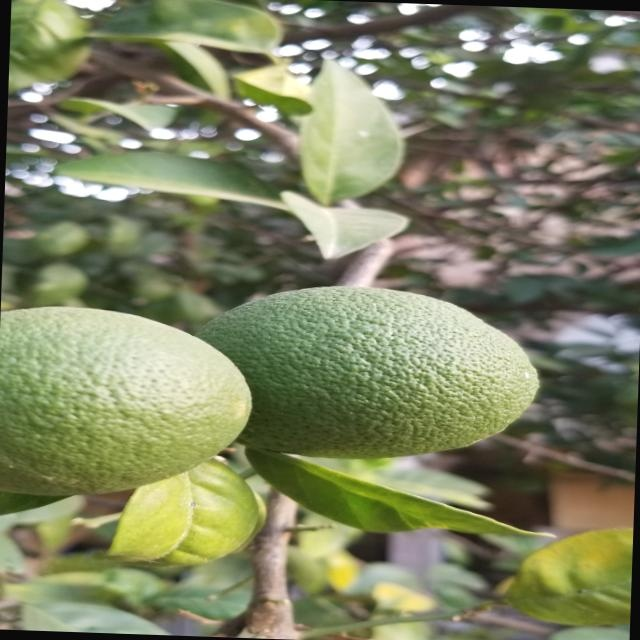agrume: (207, 282, 549, 470), (3, 297, 265, 501)
